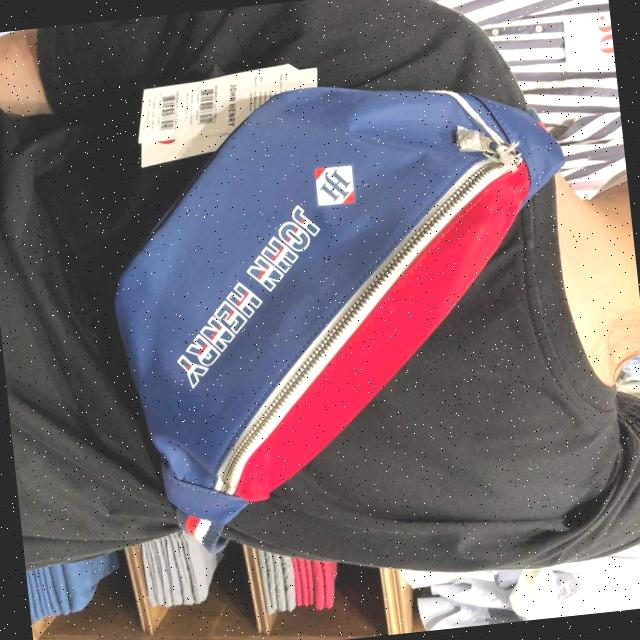handbag: (70, 51, 606, 540)
